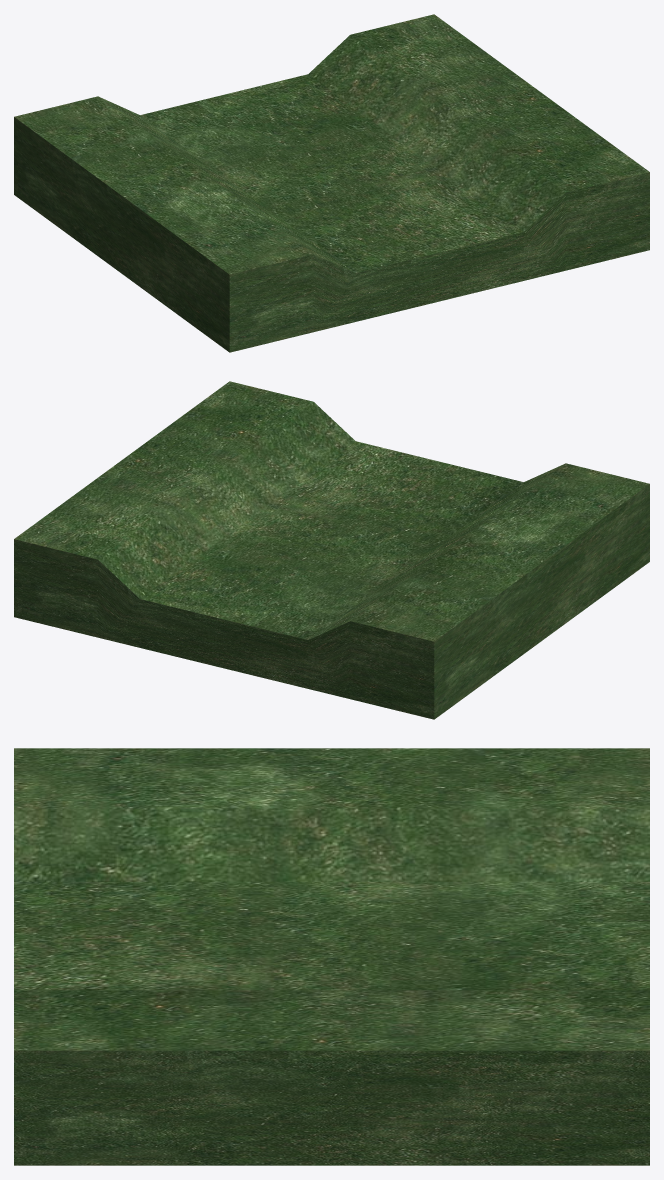
Rendered from simplevalley.fbx.
The picture shows the model from 3 angles, top to bottom: view 1: azimuth 30°, elevation 25°; view 2: azimuth 150°, elevation 25°; view 3: azimuth 270°, elevation 25°; orthographic projection. The views are drawn at different scales.
Parts seen in each view (by area): view 1: Box001; view 2: Box001; view 3: Box001.
Part boxes in pixels (x1=…): Box001: x1=14, y1=14, x2=649, y2=352; Box001: x1=14, y1=381, x2=649, y2=719; Box001: x1=14, y1=748, x2=649, y2=1165.
Size of the model in its own units: 90 by 80 by 15.97.
Materials: 1 (1 with a texture image).
